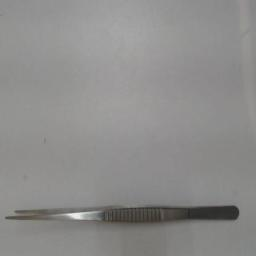DeBakey Dissector: (2, 188, 246, 234)
